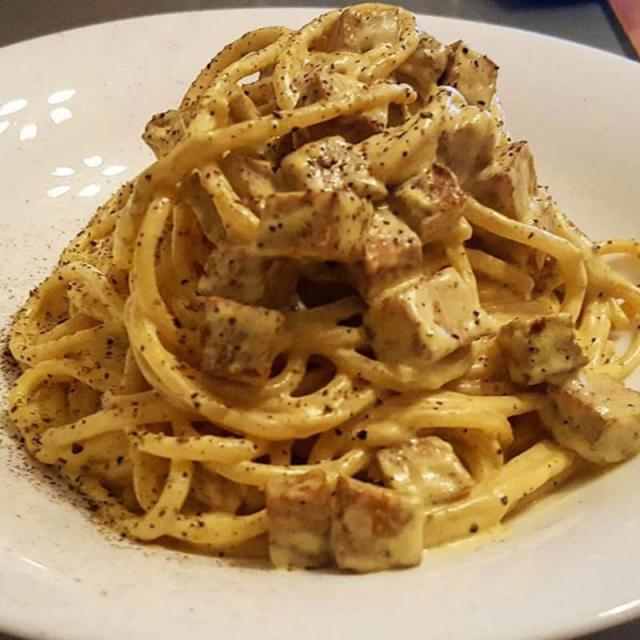Pasta with carbonara sauce: (22, 7, 640, 587)
